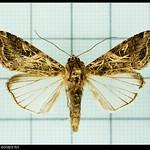Spodoptera litura: (1, 30, 150, 133)
